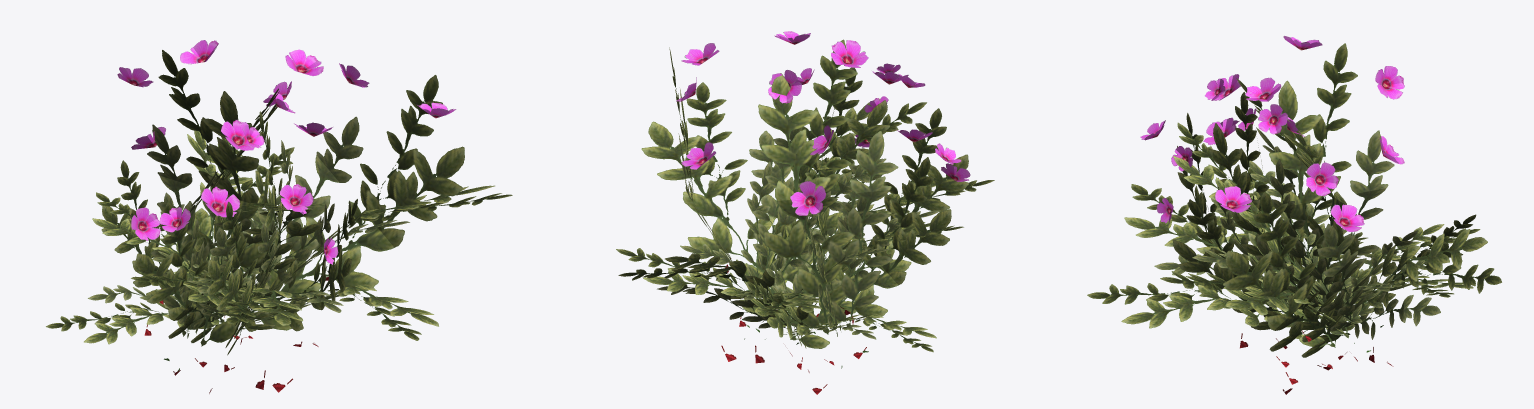
The model's file is flower_6.dae.
3 views of the same model, side by side, from view 1: azimuth 30°, elevation 25°; view 2: azimuth 150°, elevation 25°; view 3: azimuth 270°, elevation 25° (orthographic). The views are drawn at different scales.
Parts seen in each view (by area): view 1: Mesh_Object; view 2: Mesh_Object; view 3: Mesh_Object.
Part boxes in pixels (box(x1,y1,x2,y2)): Mesh_Object: box(46, 40, 512, 393); Mesh_Object: box(616, 31, 994, 394); Mesh_Object: box(1087, 36, 1501, 394).
Size of the model in its own units: 1.22 by 0.9478 by 1.18.
